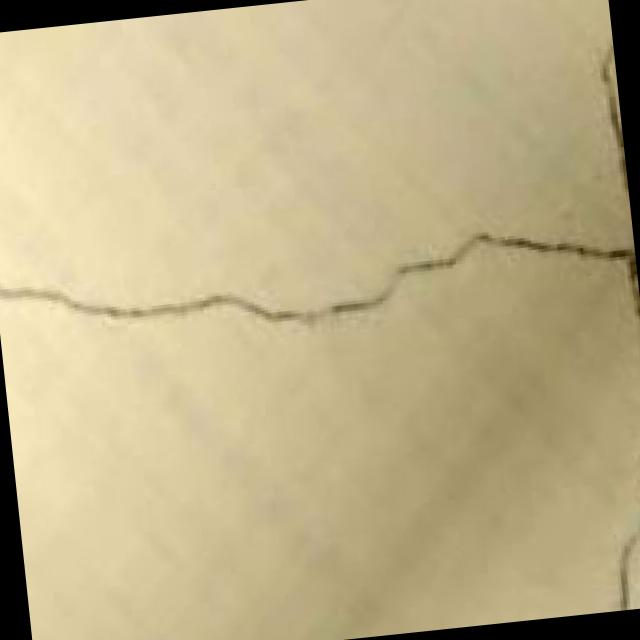crack: (0, 146, 640, 404)
